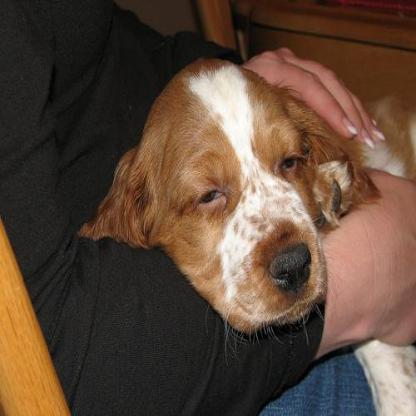Welsh_springer_spaniel: (76, 54, 414, 334)
